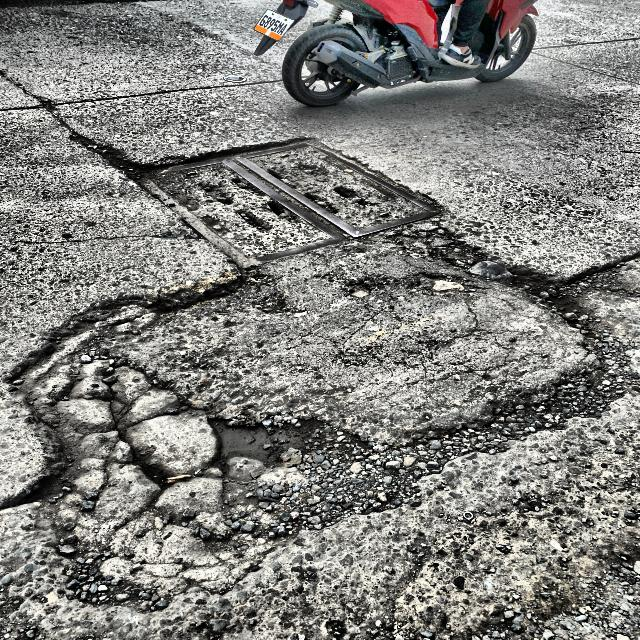pothole: (30, 283, 640, 515)
